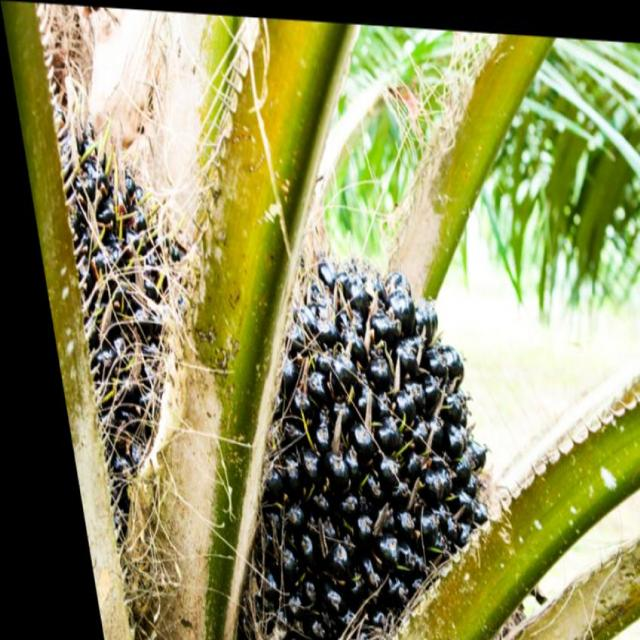Unripe: (167, 239, 505, 640)
